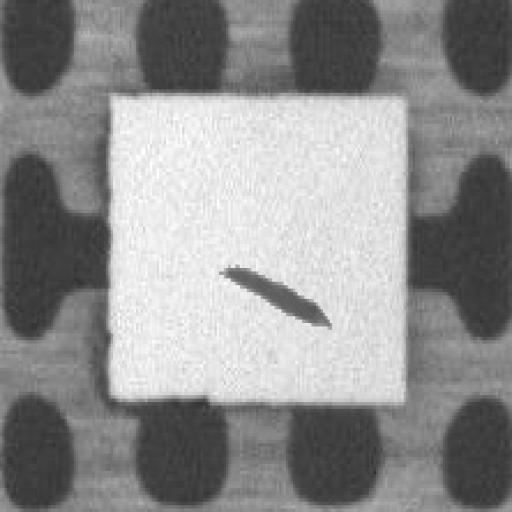DIE_INK: (217, 258, 334, 330)
